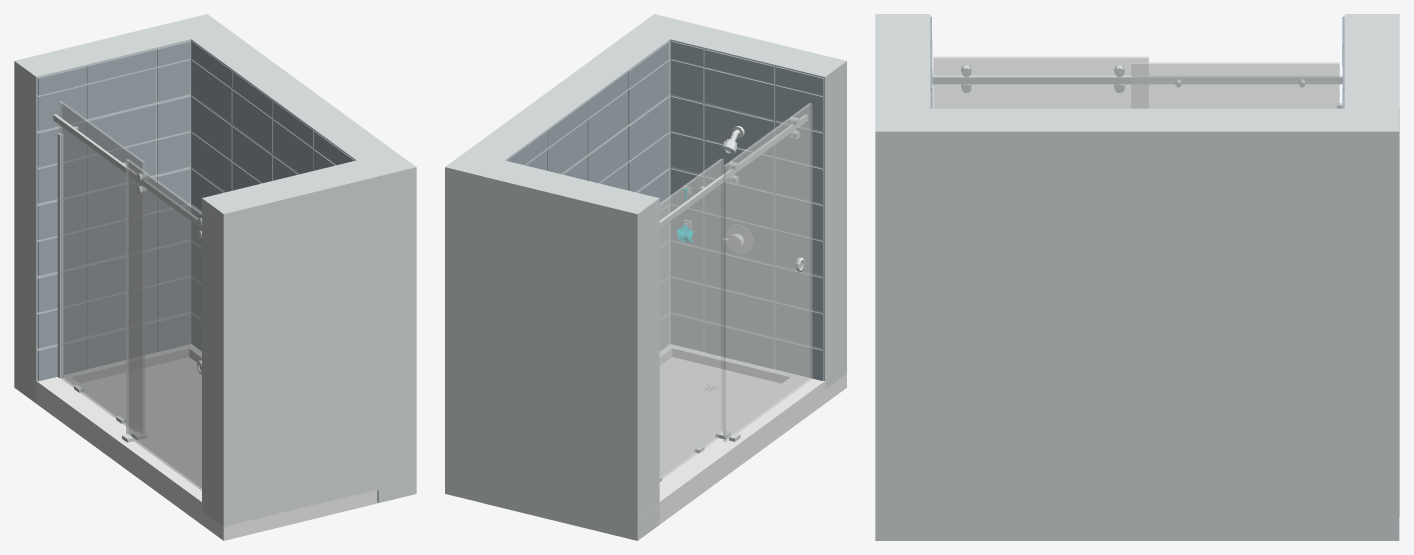
Rendered from bathtub.fbx.
3 views of the same model, side by side, from view 1: azimuth 30°, elevation 25°; view 2: azimuth 150°, elevation 25°; view 3: azimuth 270°, elevation 25° (orthographic). The views are drawn at different scales.
Visible parts, largest first — view 1: mesh1790589474, mesh2069246490, mesh413449833, mesh563226877, mesh412830914, mesh1031167705, mesh484513667, mesh232254235, mesh1738612280, mesh1399364795, mesh1329319492, mesh1135249576 (+10 smaller); view 2: mesh2069246490, mesh563226877, mesh876571541, mesh413449833, mesh412830914, mesh1198615719, mesh1790589474, mesh479470393, mesh1031167705, mesh1867324932, mesh232254235, mesh1738612280 (+12 smaller); view 3: mesh412830914, mesh232254235, mesh1588092611, mesh1268541014, mesh413449833, mesh563226877, mesh2069246490, mesh1790589474, mesh2142710330, mesh1805511526.
Part boxes in pixels (bbox=[...]): mesh1790589474: bbox=[202, 160, 378, 527]; mesh2069246490: bbox=[14, 23, 190, 403]; mesh413449833: bbox=[59, 101, 145, 433]; mesh563226877: bbox=[126, 159, 201, 490]; mesh412830914: bbox=[169, 14, 416, 320]; mesh1031167705: bbox=[36, 377, 202, 510]; mesh484513667: bbox=[191, 41, 232, 350]; mesh232254235: bbox=[191, 223, 416, 503]; mesh1738612280: bbox=[80, 373, 201, 472]; mesh1399364795: bbox=[178, 490, 377, 540]; mesh1329319492: bbox=[145, 357, 201, 418]; mesh1135249576: bbox=[57, 133, 63, 378]; mesh2069246490: bbox=[483, 160, 659, 540]; mesh563226877: bbox=[723, 103, 812, 441]; mesh876571541: bbox=[704, 49, 774, 368]; mesh413449833: bbox=[659, 158, 723, 478]; mesh412830914: bbox=[445, 14, 691, 321]; mesh1198615719: bbox=[775, 66, 823, 380]; mesh1790589474: bbox=[670, 23, 846, 388]; mesh479470393: bbox=[671, 41, 704, 351]; mesh1031167705: bbox=[637, 375, 825, 524]; mesh1867324932: bbox=[628, 42, 669, 350]; mesh232254235: bbox=[445, 223, 669, 502]; mesh1738612280: bbox=[660, 383, 761, 471]; mesh412830914: bbox=[875, 108, 1399, 313]; mesh232254235: bbox=[875, 363, 1399, 540]; mesh1588092611: bbox=[875, 311, 1092, 362]; mesh1268541014: bbox=[1187, 311, 1399, 362]; mesh413449833: bbox=[1131, 62, 1339, 108]; mesh563226877: bbox=[933, 56, 1148, 108]; mesh2069246490: bbox=[1342, 14, 1399, 517]; mesh1790589474: bbox=[875, 14, 930, 108]; mesh2142710330: bbox=[1093, 313, 1187, 362]; mesh1805511526: bbox=[932, 75, 1342, 84].
Bounding box in the file's own units: 142 × 230 × 267.
